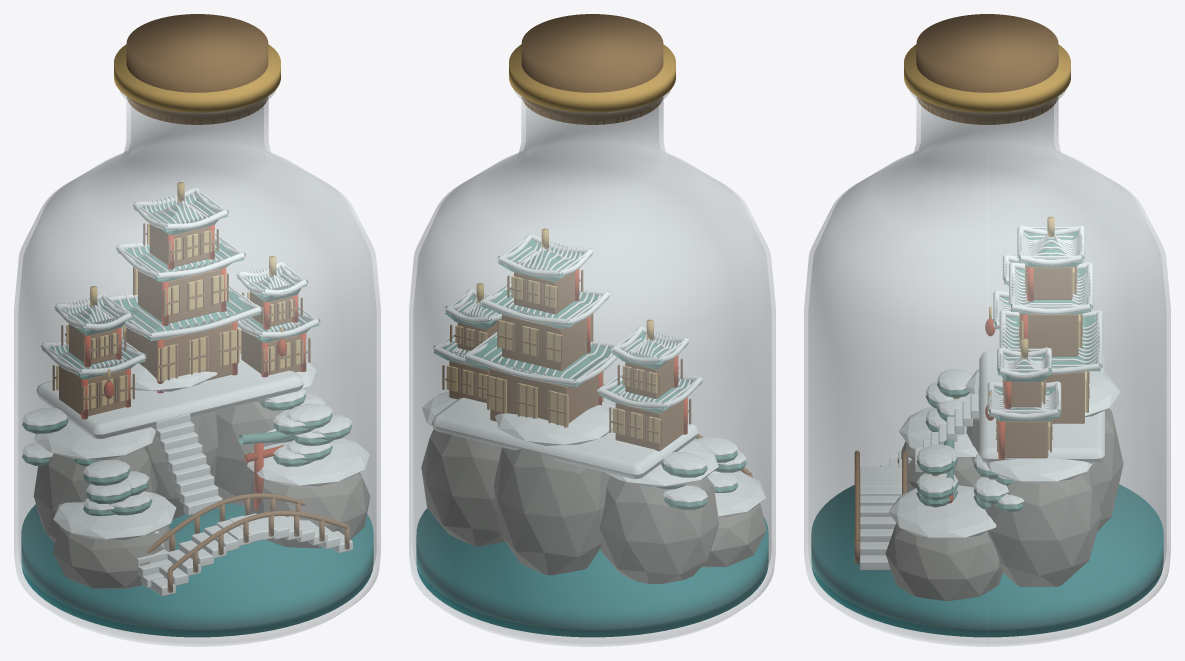
3 renders of one model, left to right at view 1: azimuth 30°, elevation 25°; view 2: azimuth 150°, elevation 25°; view 3: azimuth 270°, elevation 25°, orthographic.
Parts seen in each view (by area): view 1: transparent glass bottle, turquoise circular water basin, cork plug, upper temple terrace, faceted cliff.003, faceted cliff.004, gold metal lip, faceted cliff.002, faceted cliff, snow ledge.003, snow ledge.004, snow ledge (+22 smaller); view 2: transparent glass bottle, turquoise circular water basin, faceted cliff.001, cork plug, faceted cliff, faceted cliff.002, upper temple terrace, gold metal lip, snow ledge.001, faceted cliff.003, temple storey, temple storey.001 (+16 smaller); view 3: transparent glass bottle, turquoise circular water basin, cork plug, faceted cliff.002, faceted cliff.004, gold metal lip, upper temple terrace, snow ledge.004, snow ledge.002, faceted cliff.001, temple storey.001, temple storey.005 (+13 smaller).
Boxes of the visible parts, <box> form: transparent glass bottle: <box>14,90,380,646</box>; turquoise circular water basin: <box>21,503,373,637</box>; cork plug: <box>126,14,268,124</box>; upper temple terrace: <box>36,354,303,438</box>; faceted cliff.003: <box>53,525,176,588</box>; faceted cliff.004: <box>249,472,370,548</box>; gold metal lip: <box>114,44,280,112</box>; faceted cliff.002: <box>214,393,305,505</box>; faceted cliff: <box>33,447,157,542</box>; snow ledge.003: <box>53,492,175,540</box>; snow ledge.004: <box>247,438,369,486</box>; snow ledge: <box>34,420,155,459</box>; transparent glass bottle: <box>409,90,775,646</box>; turquoise circular water basin: <box>416,508,768,637</box>; faceted cliff.001: <box>494,447,610,575</box>; cork plug: <box>521,14,663,124</box>; faceted cliff: <box>599,476,719,584</box>; faceted cliff.002: <box>421,429,505,546</box>; upper temple terrace: <box>431,398,698,479</box>; gold metal lip: <box>509,44,675,112</box>; snow ledge.001: <box>495,405,612,445</box>; faceted cliff.003: <box>701,504,766,567</box>; temple storey: <box>490,368,598,422</box>; temple storey.001: <box>502,315,586,370</box>; transparent glass bottle: <box>804,90,1170,646</box>; turquoise circular water basin: <box>811,484,1163,637</box>; cork plug: <box>916,14,1058,124</box>; faceted cliff.002: <box>985,469,1101,586</box>; faceted cliff.004: <box>885,523,1002,600</box>; gold metal lip: <box>904,44,1070,112</box>; upper temple terrace: <box>979,351,1104,463</box>; snow ledge.004: <box>888,485,996,539</box>; snow ledge.002: <box>986,458,1091,483</box>; faceted cliff.001: <box>1089,408,1123,531</box>; temple storey.001: <box>1028,314,1078,356</box>; temple storey.005: <box>1005,421,1048,458</box>.
Bounding box in the file's own units: 0.6263 × 1 × 0.6263.
